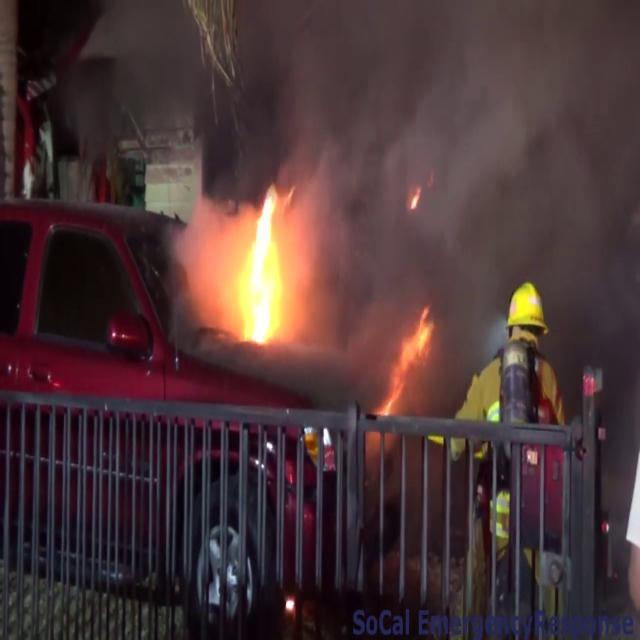Fire: (220, 176, 298, 348), (377, 303, 435, 421)
Smoke: (269, 0, 640, 344)
